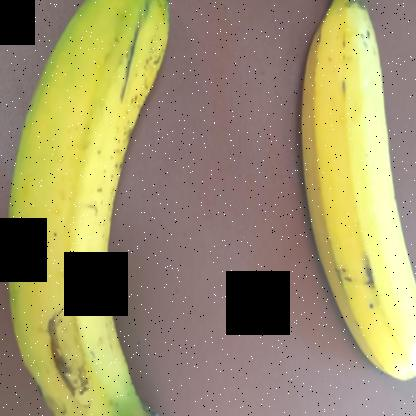freshripe: (286, 1, 416, 387)
ripe: (5, 1, 189, 411)
